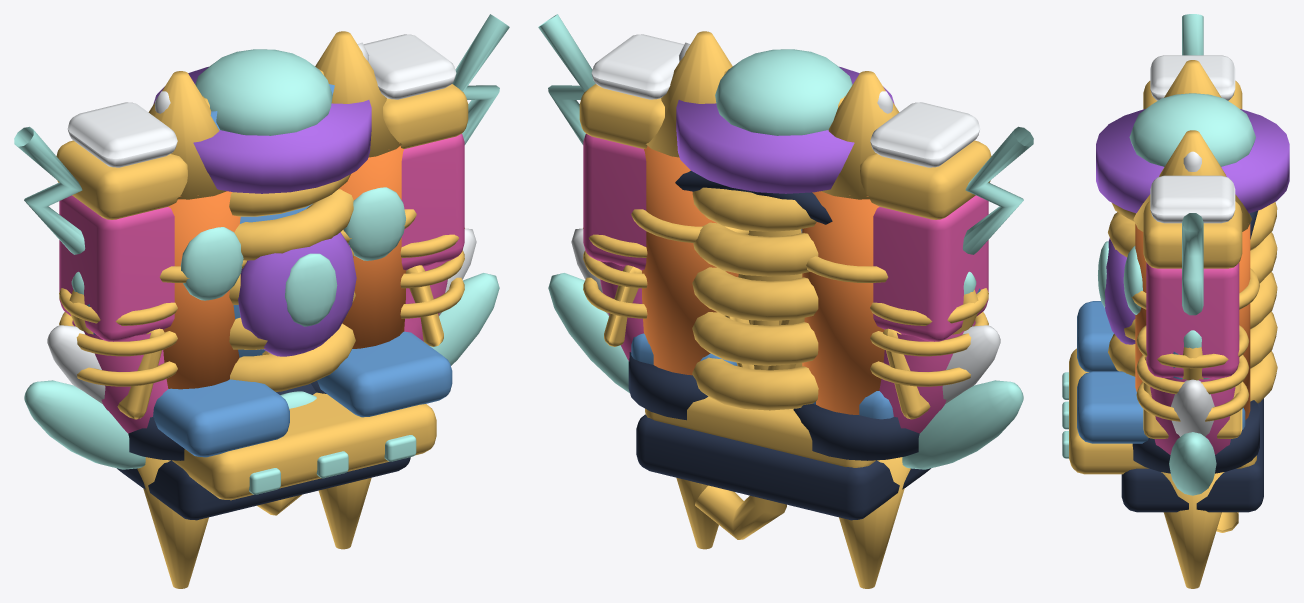
Rendered from relics.glb.
3 renders of one model, left to right at view 1: azimuth 30°, elevation 25°; view 2: azimuth 150°, elevation 25°; view 3: azimuth 270°, elevation 25°, orthographic. The views are drawn at different scales.
Parts seen in each view (by area): view 1: rocket.001_surface, magnet.001_surface, spring.001_surface, feather.001_surface, shield.001_surface; view 2: spring.001_surface, magnet.001_surface, rocket.001_surface, feather.001_surface, shield.001_surface; view 3: spring.001_surface, magnet.001_surface, rocket.001_surface, feather.001_surface, shield.001_surface.
Part boxes in pixels (x1,y1,x2,y2): rocket.001_surface: (117, 31, 452, 588); magnet.001_surface: (14, 14, 509, 433); spring.001_surface: (117, 49, 436, 520); feather.001_surface: (24, 42, 499, 469); shield.001_surface: (69, 69, 356, 515); spring.001_surface: (636, 49, 930, 520); magnet.001_surface: (538, 14, 1033, 433); rocket.001_surface: (604, 31, 930, 588); feather.001_surface: (548, 42, 1023, 469); shield.001_surface: (695, 69, 980, 539); spring.001_surface: (1062, 93, 1289, 512); magnet.001_surface: (1136, 14, 1248, 454); rocket.001_surface: (1077, 60, 1259, 588); feather.001_surface: (1169, 151, 1216, 495); shield.001_surface: (1098, 238, 1238, 532).
Size of the model in its own units: 2.54 by 2.52 by 1.15.
